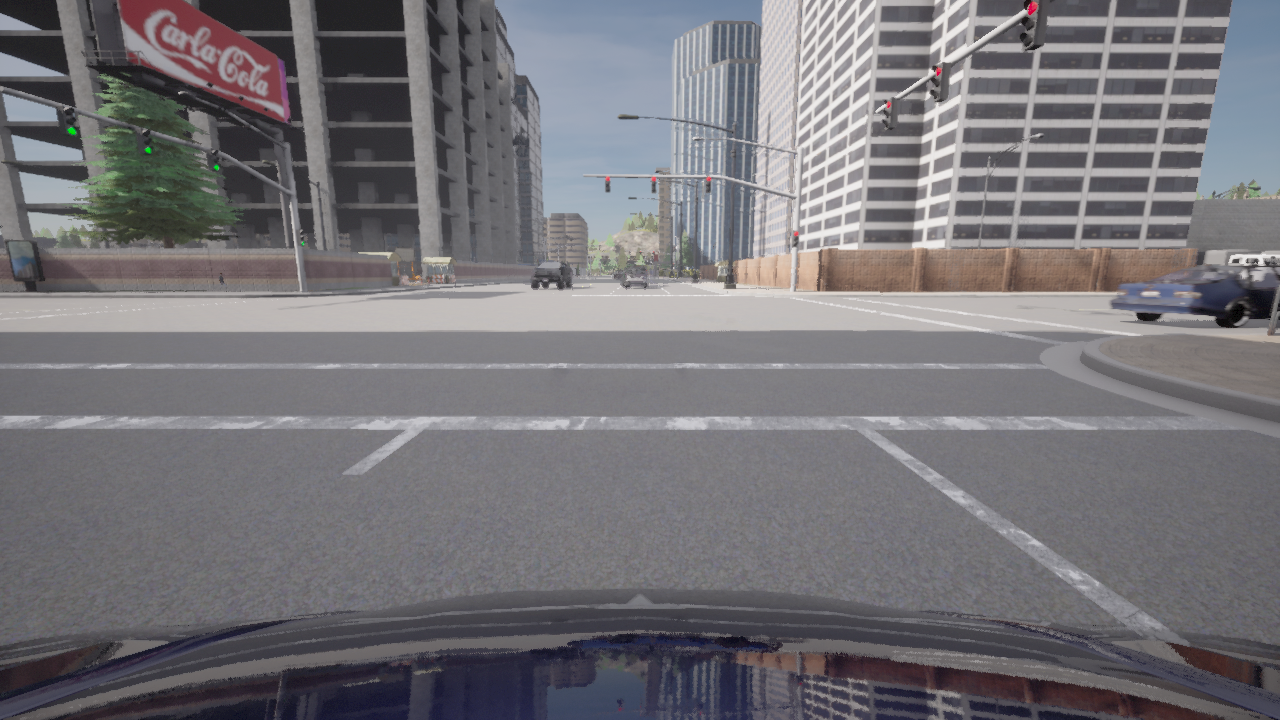cyclist: (0, 588, 1279, 719), (1109, 264, 1279, 328), (1196, 250, 1279, 266), (531, 262, 571, 288), (621, 264, 646, 286), (625, 268, 647, 288), (613, 271, 622, 280), (1260, 250, 1279, 253), (644, 265, 646, 268)
pedestrian: (217, 272, 227, 292)
